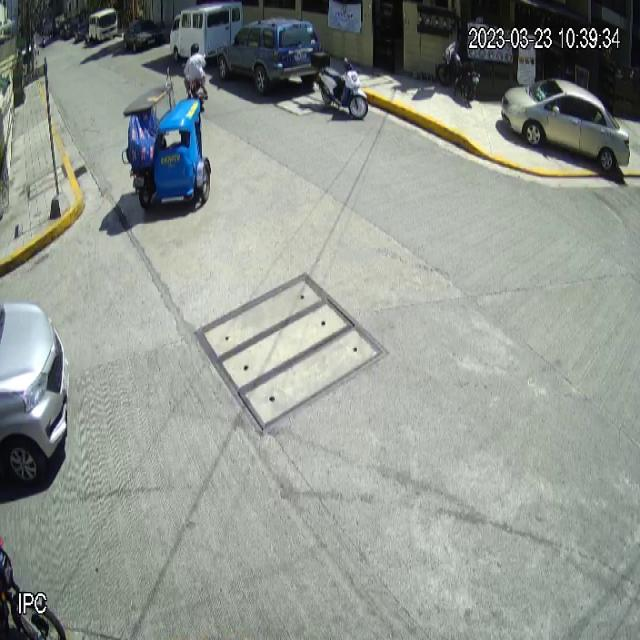Car: (501, 79, 631, 172), (216, 15, 323, 94)
Motorcycle: (312, 51, 368, 120)
Tricycle: (121, 82, 212, 210)
Van: (169, 0, 243, 67)
